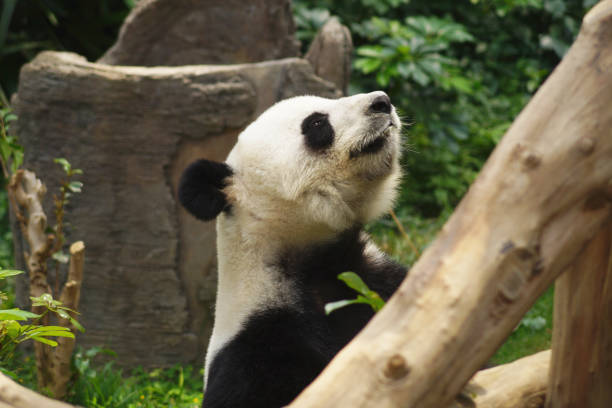panda: (160, 73, 429, 279)
